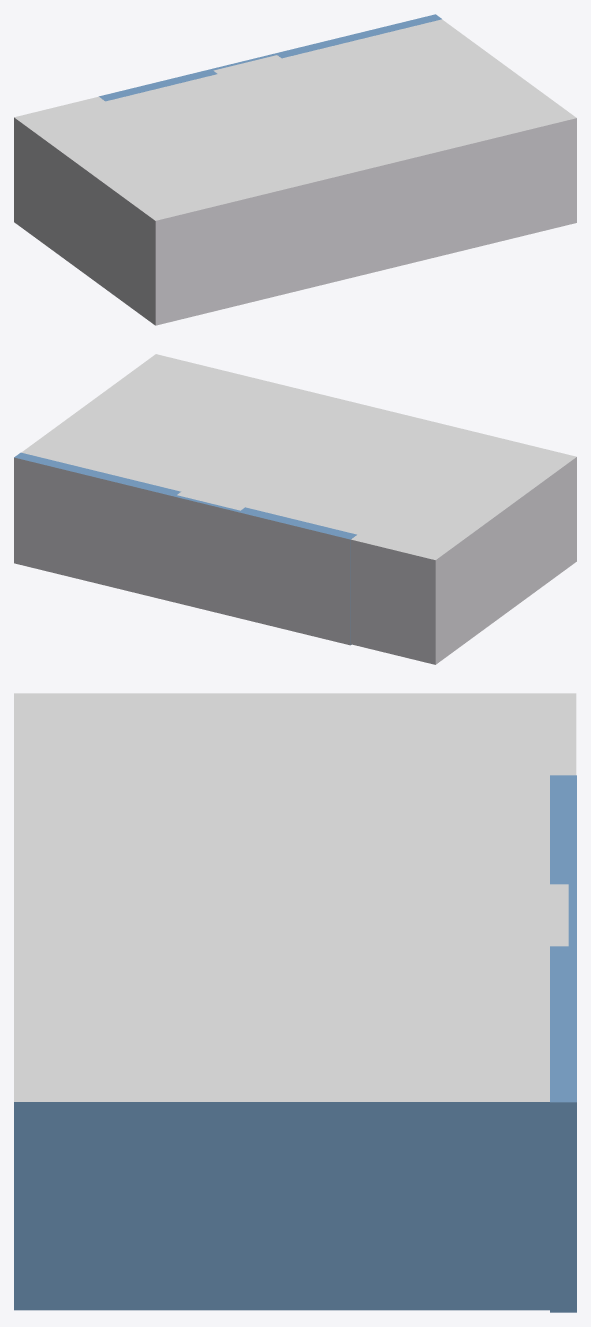
Rendered from ladder.dae.
3 views of the same model, one above another, from view 1: azimuth 30°, elevation 25°; view 2: azimuth 150°, elevation 25°; view 3: azimuth 270°, elevation 25° (orthographic). The views are drawn at different scales.
Visible parts, largest first — view 1: polySurface271, polySurface264; view 2: polySurface271, polySurface264; view 3: polySurface271, polySurface264.
Boxes of the visible parts, left/top/right/bottom form: polySurface271: left=14, top=19, right=576, bottom=325; polySurface264: left=99, top=14, right=441, bottom=101; polySurface271: left=21, top=354, right=576, bottom=664; polySurface264: left=14, top=452, right=356, bottom=645; polySurface271: left=14, top=693, right=576, bottom=1310; polySurface264: left=550, top=775, right=576, bottom=1312.
Size of the model in its own units: 427 by 102 by 248.
